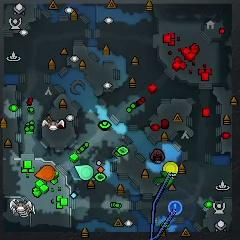Other: (168, 200, 183, 216)
p2: (75, 164, 94, 181)
p4: (162, 161, 179, 176)
p5: (35, 164, 56, 182)
x4: (155, 171, 173, 188)
